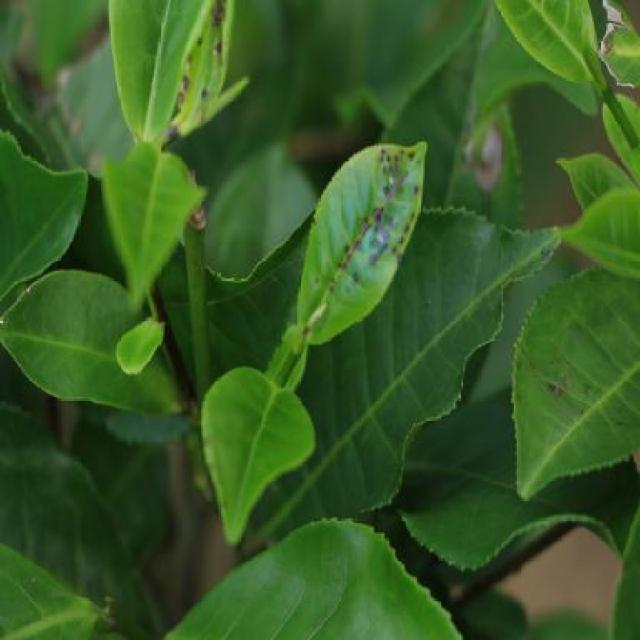Tea Mosquito bug infested leaf: (286, 130, 431, 344), (182, 0, 246, 123)
